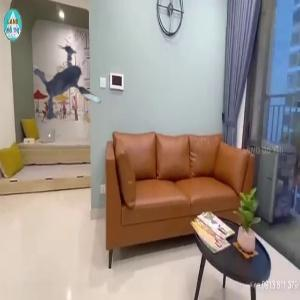drone: (17, 33, 138, 154)
